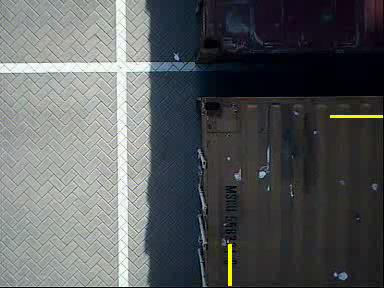groundmarker_2: (142, 84, 201, 125), (142, 226, 200, 266)
